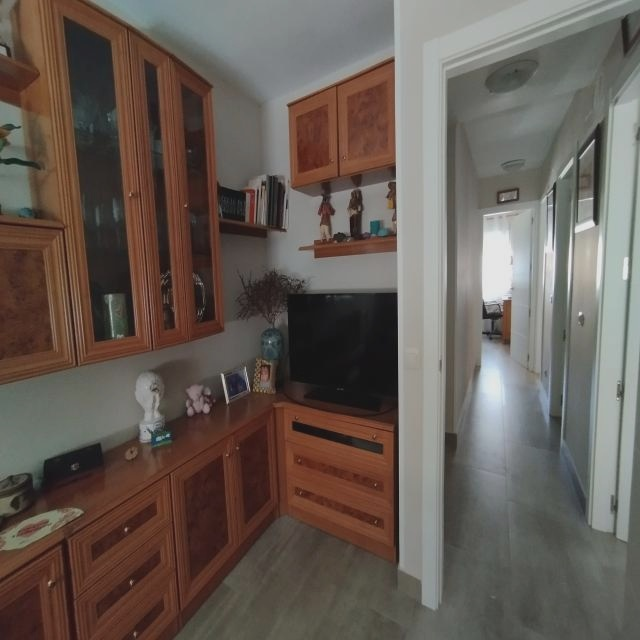book: (218, 176, 284, 228)
bookshelf: (299, 236, 397, 259), (0, 50, 39, 94), (219, 218, 285, 238)
cabinet: (27, 0, 225, 366), (0, 392, 275, 533), (0, 476, 180, 640), (170, 410, 278, 628), (270, 402, 396, 563), (287, 58, 396, 196), (0, 215, 68, 386), (502, 300, 511, 340)
chair: (483, 301, 502, 322), (482, 321, 502, 340)
monitor: (286, 291, 399, 409)
